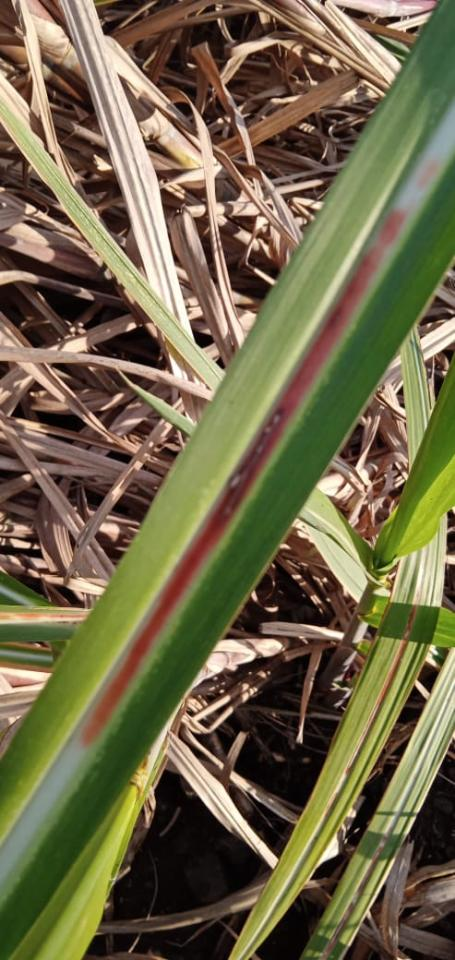Rust: (69, 199, 422, 756), (413, 156, 441, 191)
